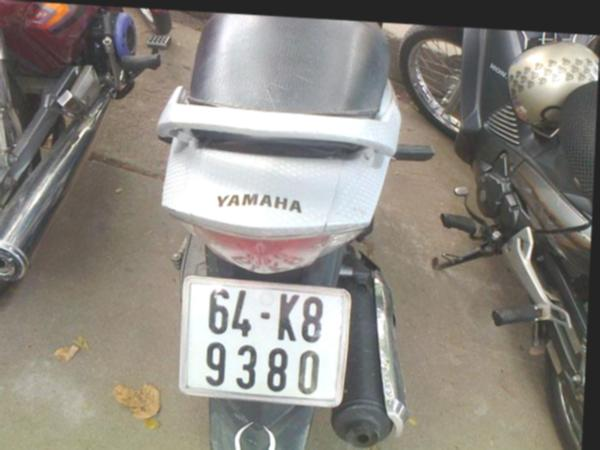License_Plate: (179, 271, 350, 408)
